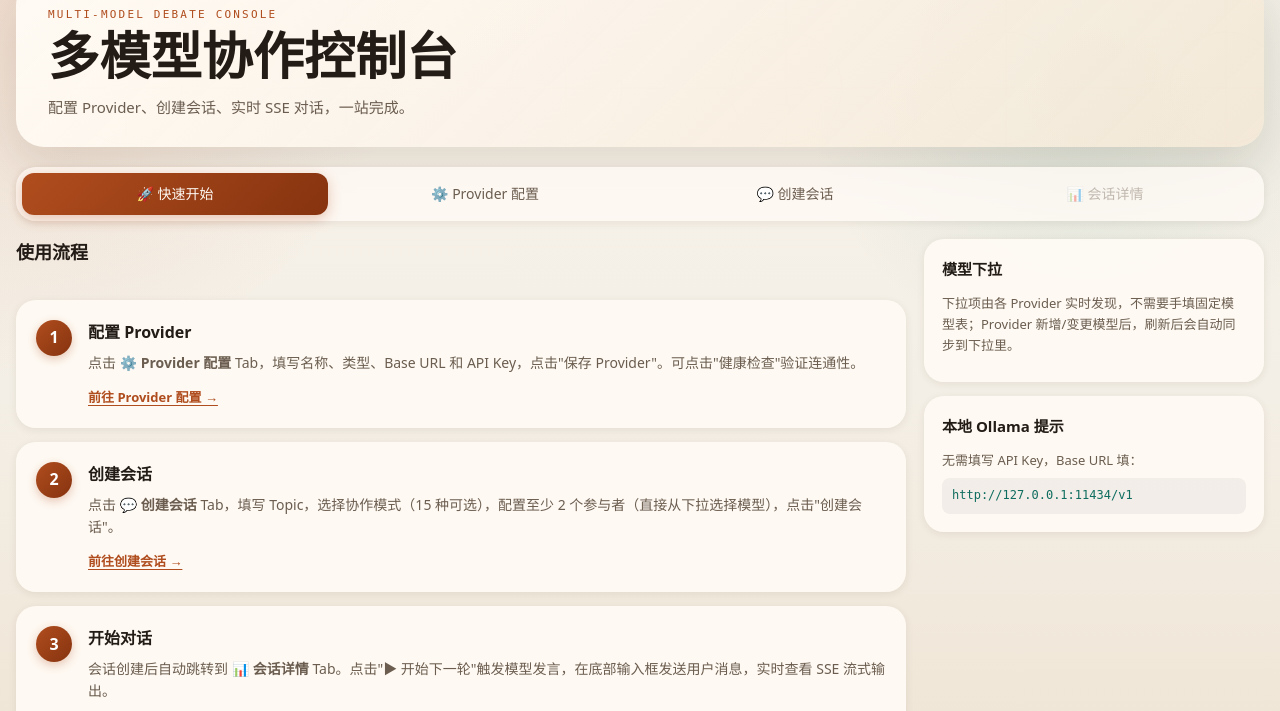
Scenario: App dynamic model dropdown › auto-binds provider_id from the selected model in create session
The image size is (1280, 711).
Step 1. Click the button "💬 创建会话" → click(795, 194), box [642,173,948,215]
(page scrolled)
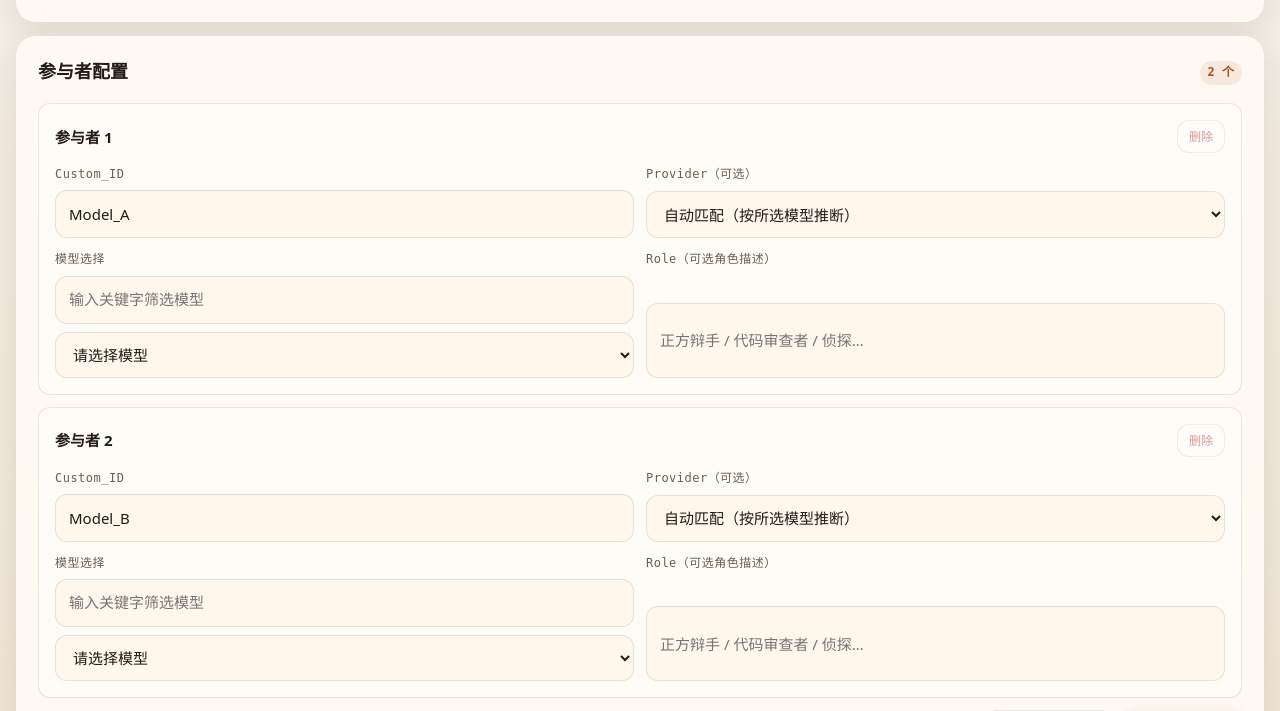
Now the element showing "参与者 1 删除 Custom_ID Provider（可选） 模型选择 Role（可选角色描述）" is shown, box [38,103,1242,395]
Now the 2nd dropdown is shown
Now the 1st dropdown labelled "Provider（可选）" is shown, box [646,191,1225,238]
Step 2. Select "grok-4.3" in the 2nd dropdown → (344, 355), box [55,332,634,378]
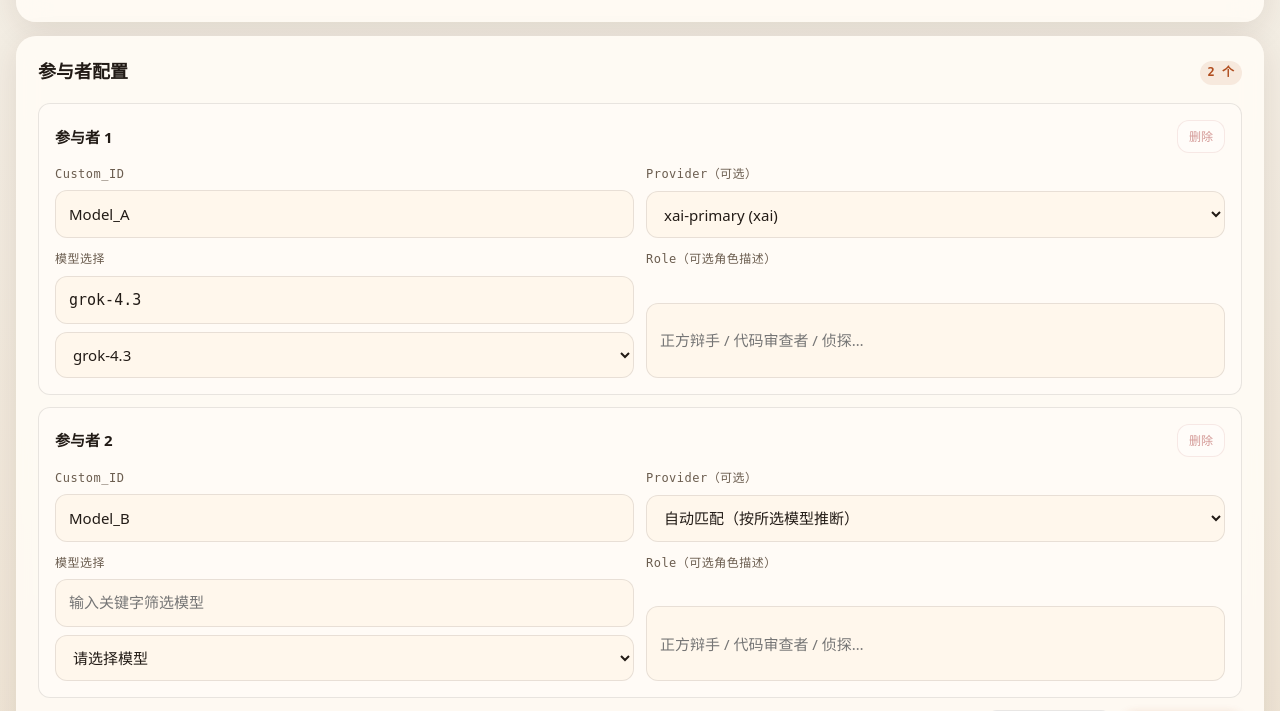
Now the 1st dropdown labelled "Provider（可选）" shows "xai-primary (xai)", box [646,191,1225,238]
